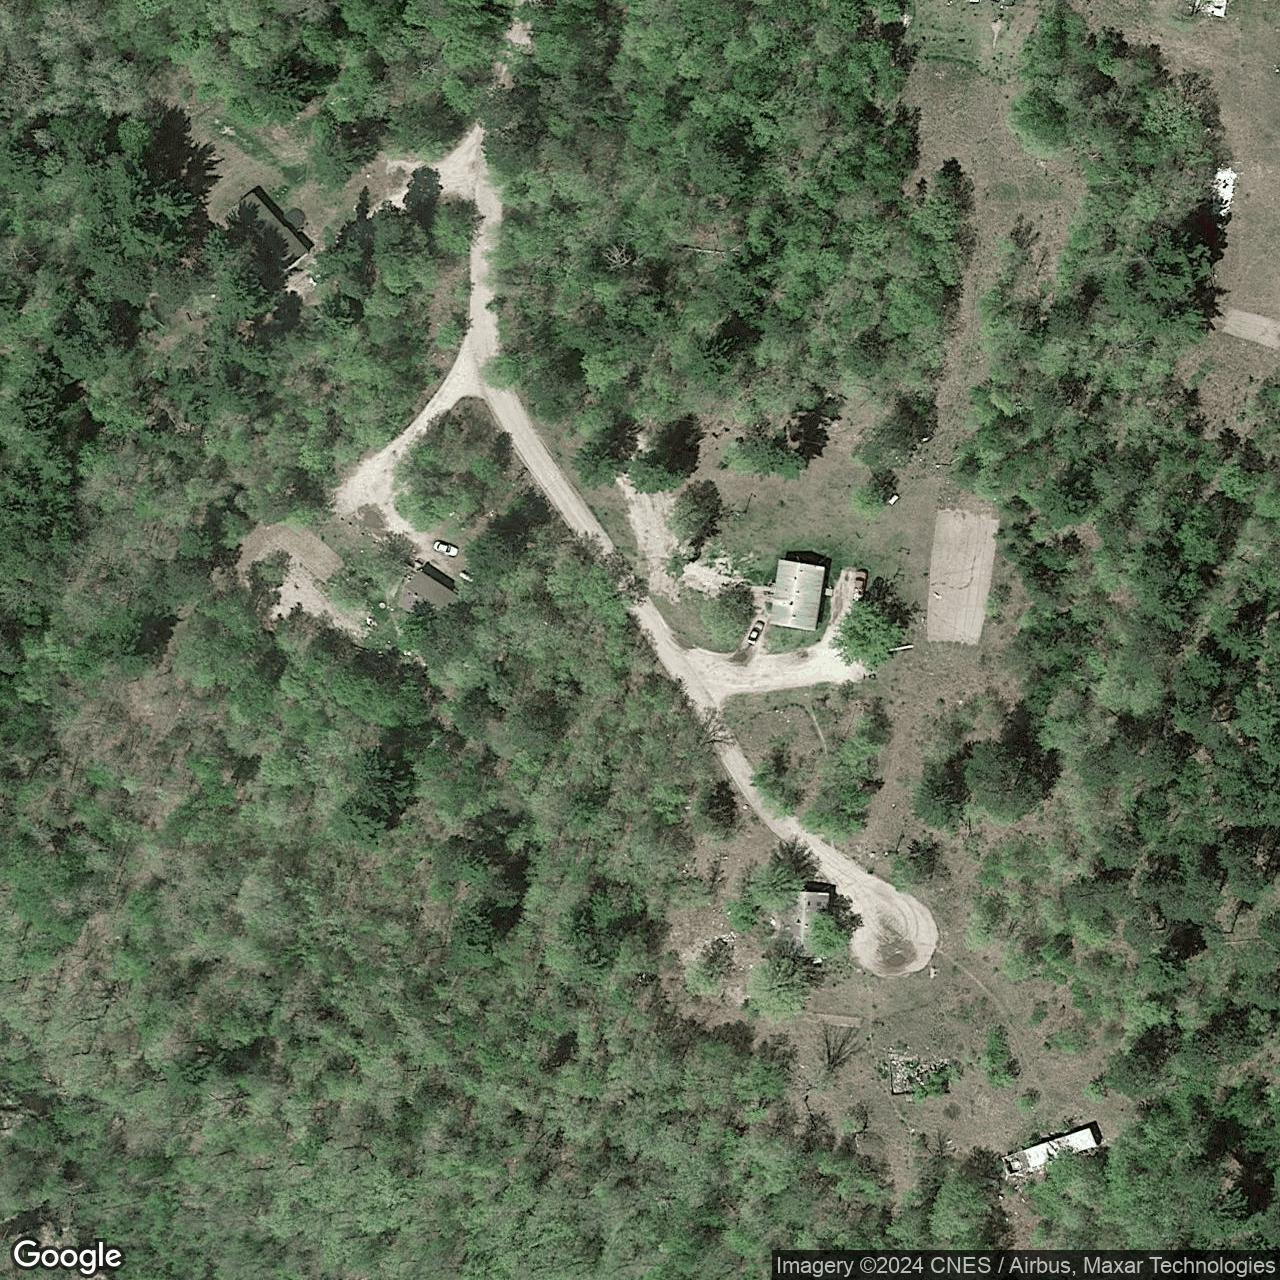House: (218, 190, 311, 284), (767, 558, 826, 634), (395, 570, 463, 631), (777, 891, 831, 961)
Propane: (457, 568, 476, 585)
Trailer: (1022, 1126, 1101, 1172)
